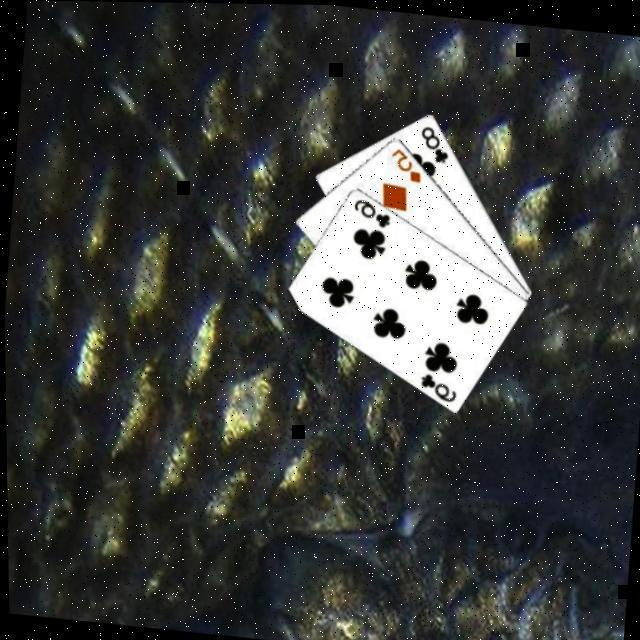5D: (387, 142, 426, 183)
6C: (349, 193, 395, 230), (416, 367, 461, 403)
8C: (417, 119, 455, 163)
